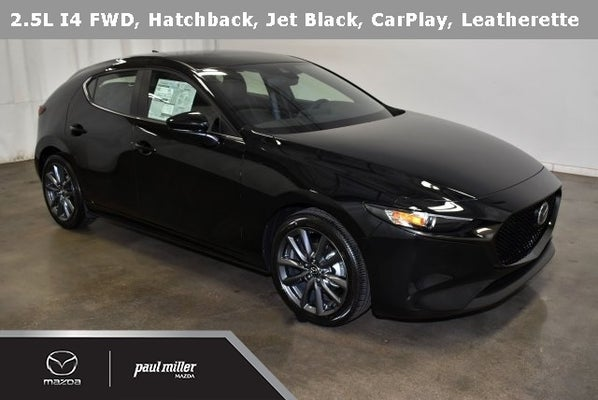Mazda3 Hatchback: (32, 49, 564, 328)
